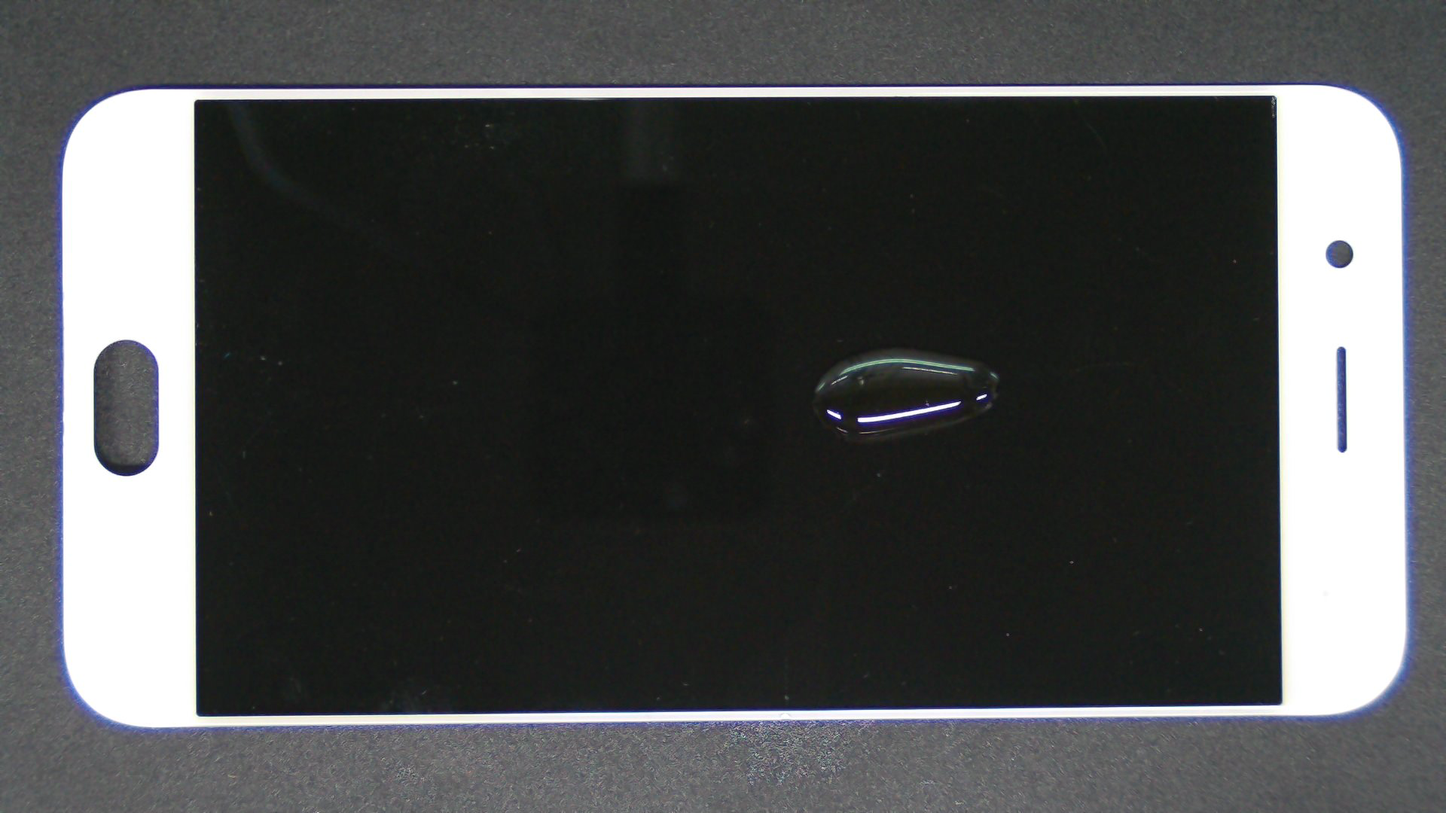oil: (795, 309, 1031, 489)
